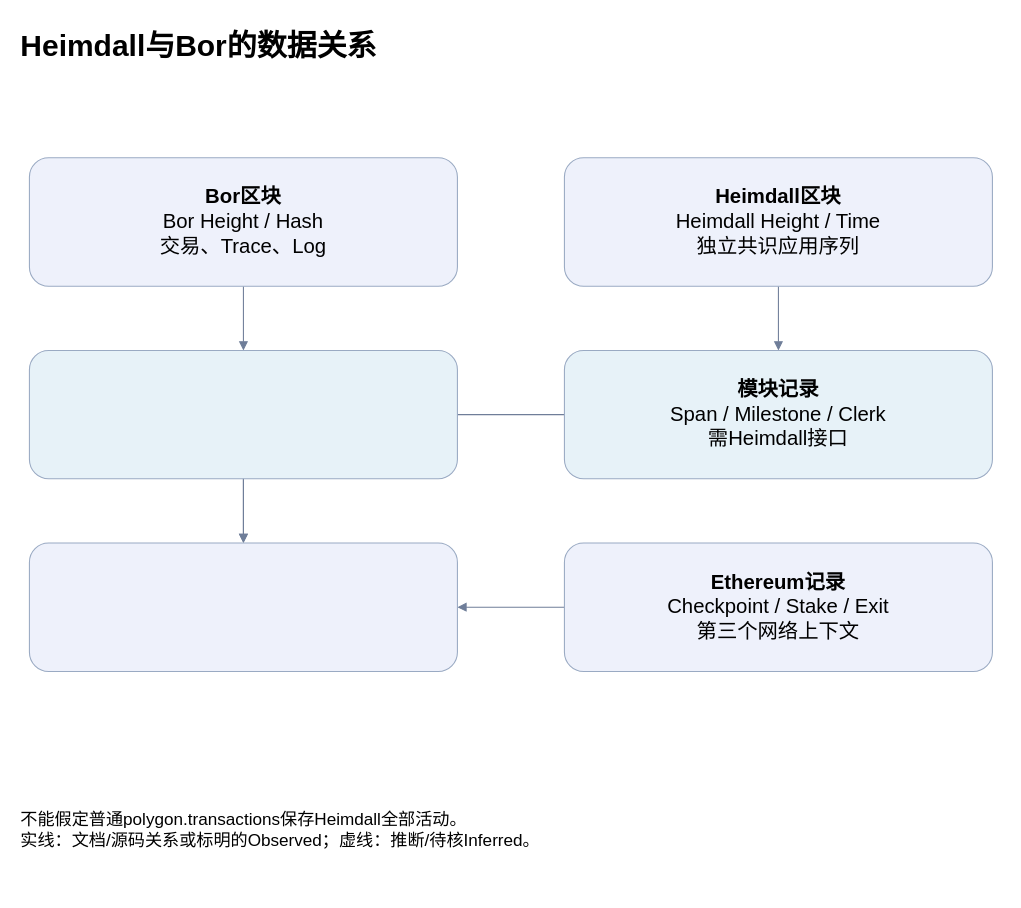
This 1021x908 diagram has some shape labels left out. Here are the shapes that lost their labels. From the top down, the centre of each, then its label:
At [242,414]: "EVM数据仓库 polygon.* 主要描述执行数据".
At [242,606]: "跨层关联 Ranges / IDs / Hashes 不是高度相等连接".
